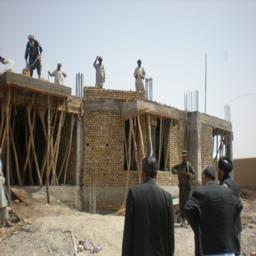no hat: (138, 154, 164, 186), (216, 154, 234, 185), (200, 168, 219, 189), (23, 30, 41, 49), (180, 147, 194, 164), (134, 53, 148, 69), (94, 52, 108, 68), (54, 58, 68, 74)
no vest: (124, 182, 179, 256), (194, 183, 235, 256), (224, 177, 256, 256), (175, 161, 196, 217), (91, 63, 112, 93), (22, 45, 46, 69), (133, 67, 150, 97), (50, 69, 70, 87)
